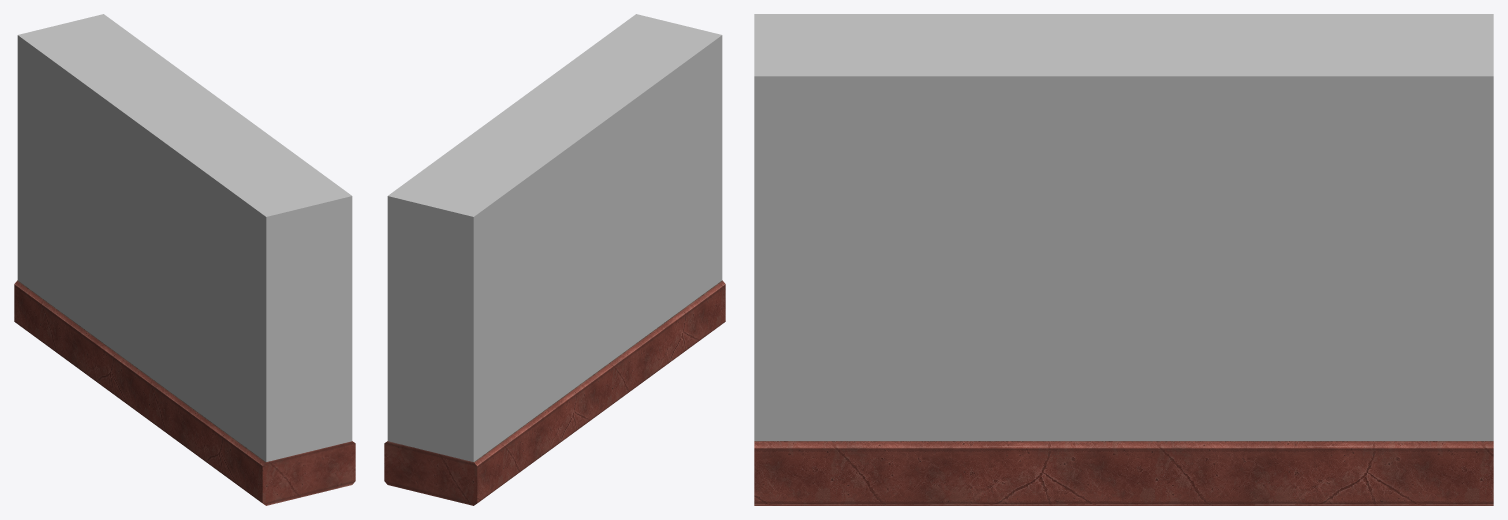
The model's file is AlleywayWallDV1.fbx.
3 views of the same model, side by side, from view 1: azimuth 30°, elevation 25°; view 2: azimuth 150°, elevation 25°; view 3: azimuth 270°, elevation 25° (orthographic). The views are drawn at different scales.
Visible parts, largest first — view 1: AlleywayWallD; view 2: AlleywayWallD; view 3: AlleywayWallD.
Boxes of the visible parts, box(x1,y1,x2,y2) form: AlleywayWallD: box(14, 14, 355, 505); AlleywayWallD: box(384, 14, 725, 505); AlleywayWallD: box(754, 14, 1493, 505).
Size of the model in its own units: 540 by 1603 by 2500.
